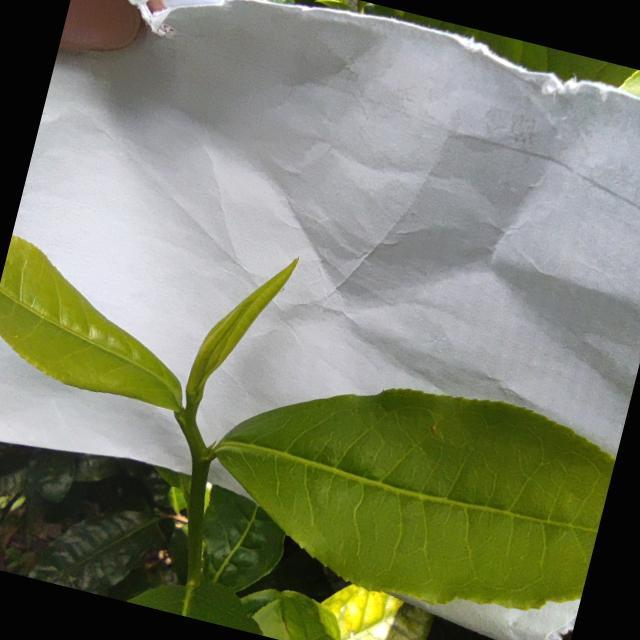Stem: (178, 413, 201, 438)
